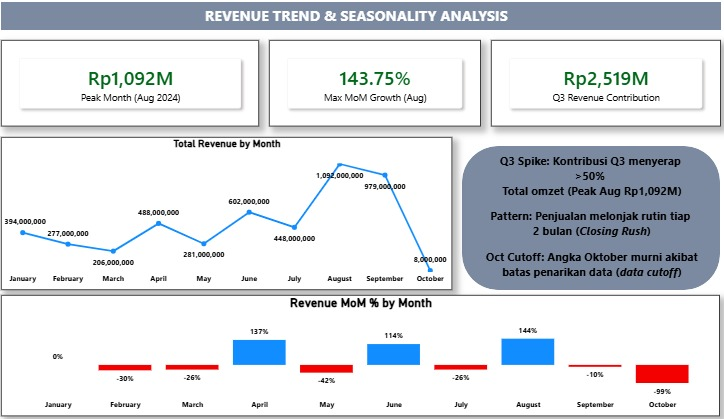

Layout of this report page (visuals, bound fields, positions):
{"tool":"powerbi","page":{"name":"Revenue Trend & Seasonality (Q3 Spike)","canvas":[1280,720],"ordinal":1},"visuals":[{"type":"shape","box":[816.7,256.7,430,240],"z":0},{"type":"shape","box":[48.3,16.7,1200,46.7],"z":1000},{"type":"cardVisual","title":"asdsa","fields":{"Data":["Measure.Total Revenue"]},"box":[48.6,80,430,144.3],"z":2000},{"type":"cardVisual","fields":{"Data":["Measure.Revenue MoM %"]},"box":[495.7,80,352.9,144.3],"z":3000},{"type":"cardVisual","fields":{"Data":["Measure.Total Revenue"]},"box":[865.7,80,382.9,144.3],"z":4000},{"type":"textbox","box":[384,16,544,48],"z":5000},{"type":"lineChart","fields":{"Y":["Measure.Total Revenue"],"Category":["dim_date.Date.Variation.Date Hierarchy.Month"]},"box":[48.3,241.7,751.7,255],"z":6000},{"type":"textbox","box":[833.3,241.7,400,255],"z":7000},{"type":"clusteredColumnChart","fields":{"Category":["dim_date.Date.Variation.Date Hierarchy.Month"],"Y":["Measure.Revenue MoM %"]},"box":[48.3,505,1198.3,201.7],"z":8000}]}

Visuals, with their boxes in screenshot pixels (x1, y1, x2, y2), scaled from the page's 1280x720 canvas onto the 724x419 screenshot:
shape: x1=462, y1=149, x2=705, y2=289
shape: x1=27, y1=10, x2=706, y2=37
"asdsa" cardVisual: x1=27, y1=47, x2=271, y2=131
cardVisual - Measure.Revenue MoM %: x1=280, y1=47, x2=480, y2=131
cardVisual - Measure.Total Revenue: x1=490, y1=47, x2=706, y2=131
textbox: x1=217, y1=9, x2=525, y2=37
lineChart - Measure.Total Revenue x dim_date.Date.Variation.Date Hierarchy.Month: x1=27, y1=141, x2=453, y2=289
textbox: x1=471, y1=141, x2=698, y2=289
clusteredColumnChart - dim_date.Date.Variation.Date Hierarchy.Month x Measure.Revenue MoM %: x1=27, y1=294, x2=705, y2=411
